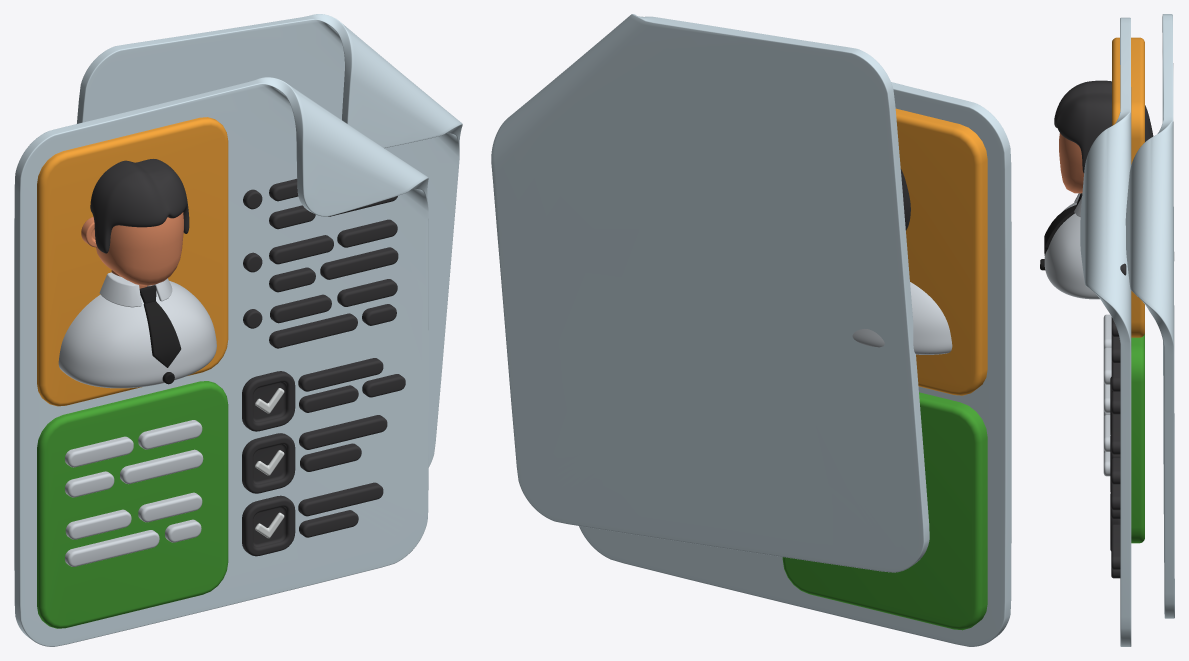
The model's file is credit_card.glb.
The picture shows the model from 3 angles, left to right: view 1: azimuth 30°, elevation 25°; view 2: azimuth 150°, elevation 25°; view 3: azimuth 270°, elevation 25°; orthographic projection. The views are drawn at different scales.
Visible parts, largest first — view 1: Plane.004, Plane.001, Cube.004, Cube.003, Cube.007, Cube.005, Cube.013, Cube.012, Cube.006, Cube.015, Cube.010, Cube.011 (+12 smaller); view 2: Plane.001, Plane.004, Cube.004, Cube.003, Cube.007; view 3: Plane.004, Plane.001, Cube.005, Cube.003, Cube.004, Cube.007, Cube.010, Cube.013, Cube.015, Cube.012, Plane.003, Cube.021 (+4 smaller).
Boxes of the visible parts, x1,y1,x2,y2 form: Plane.004: (14, 77, 428, 646); Plane.001: (77, 14, 462, 467); Cube.004: (37, 381, 228, 628); Cube.003: (37, 117, 228, 406); Cube.007: (58, 281, 216, 388); Cube.005: (90, 159, 189, 253); Cube.013: (65, 420, 203, 497); Cube.012: (65, 492, 202, 566); Cube.006: (269, 219, 398, 292); Cube.015: (269, 279, 397, 348); Cube.010: (96, 212, 183, 285); Cube.011: (242, 371, 295, 431); Plane.001: (491, 14, 929, 572); Plane.004: (579, 82, 1011, 646); Cube.004: (782, 392, 987, 630); Cube.003: (895, 108, 987, 395); Cube.007: (852, 282, 952, 354); Plane.004: (1080, 17, 1131, 646); Plane.001: (1125, 14, 1174, 618); Cube.005: (1054, 80, 1153, 172); Cube.003: (1112, 37, 1144, 337); Cube.004: (1131, 334, 1144, 543); Cube.007: (1044, 202, 1174, 299); Cube.010: (1059, 133, 1083, 193); Cube.013: (1103, 314, 1111, 412); Cube.015: (1111, 362, 1120, 414); Cube.012: (1103, 410, 1110, 476); Plane.003: (1044, 205, 1076, 255); Cube.021: (1111, 524, 1120, 569).
Bounding box in the file's own units: 7.96 × 9.13 × 2.16.
